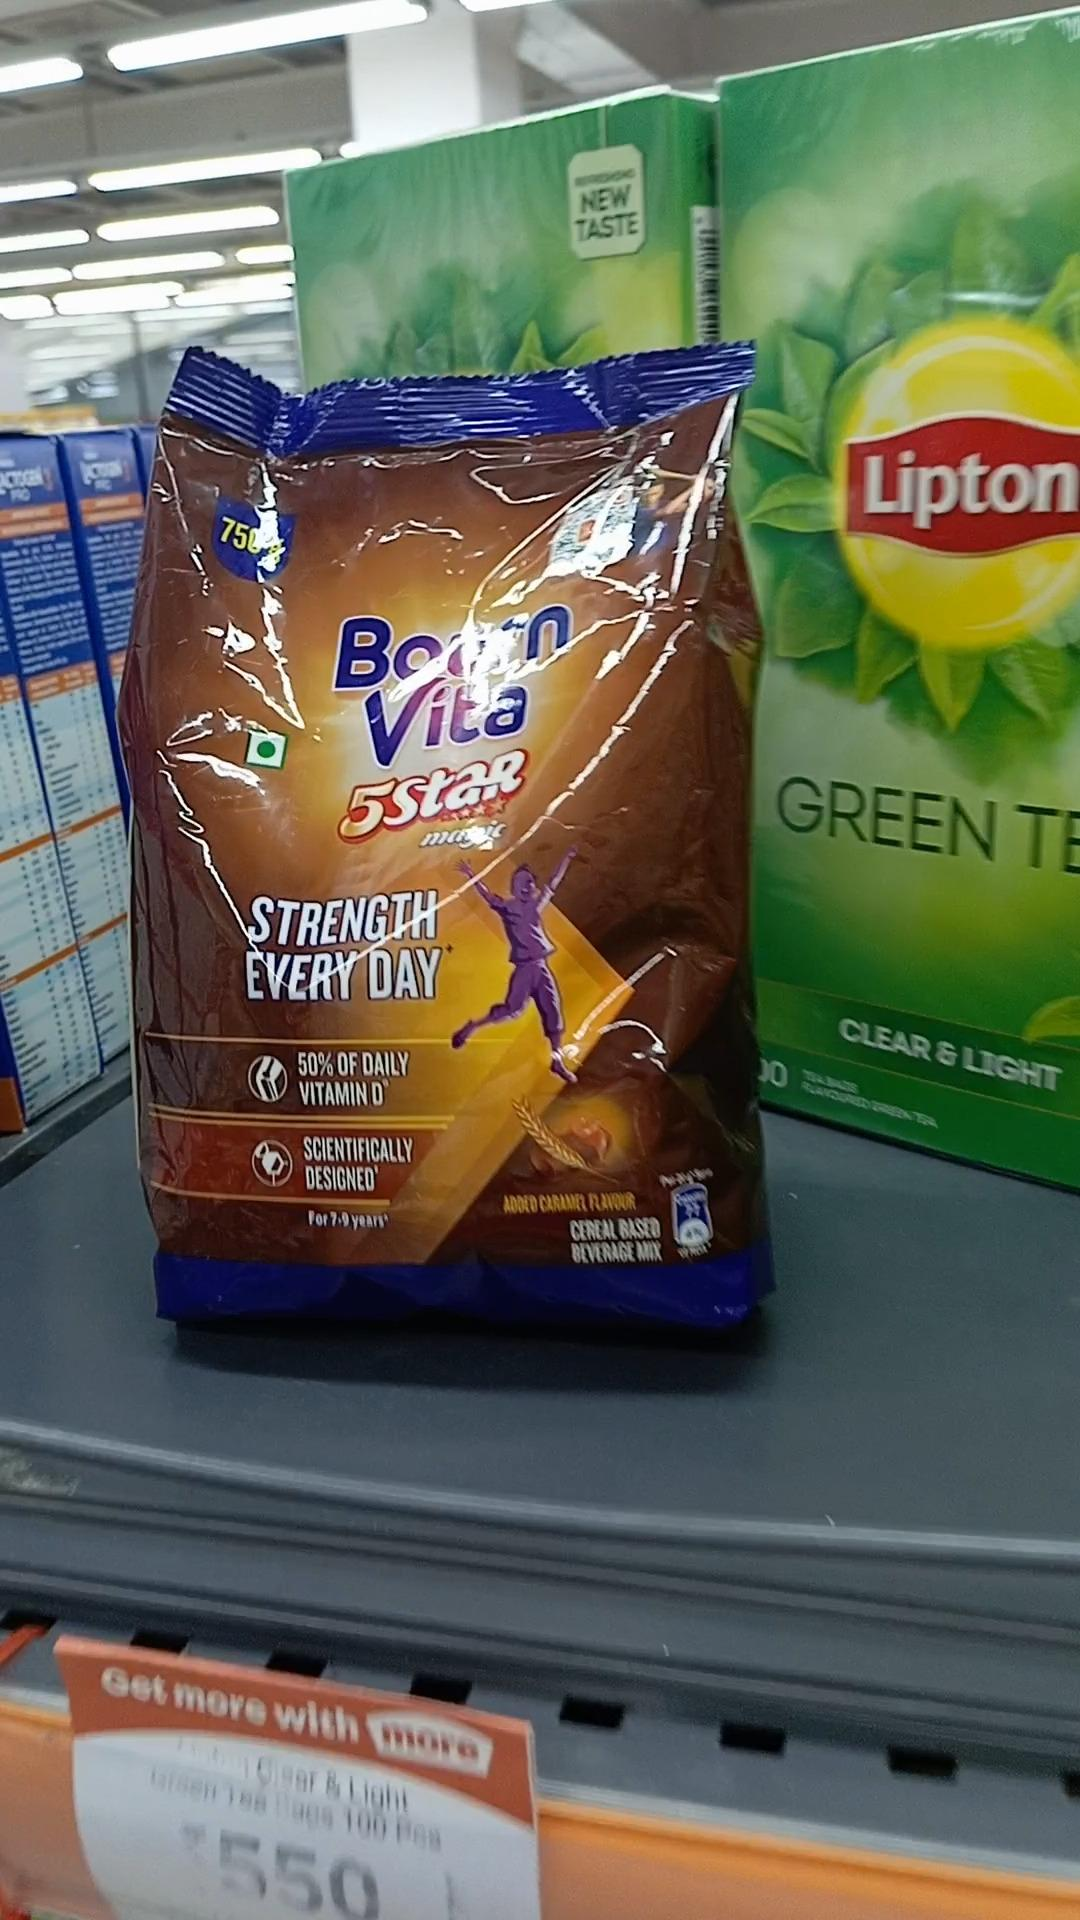BOURN_VITA_FIVE_STAR_MAGIC_750_G_POUCH: (138, 326, 760, 1342)
